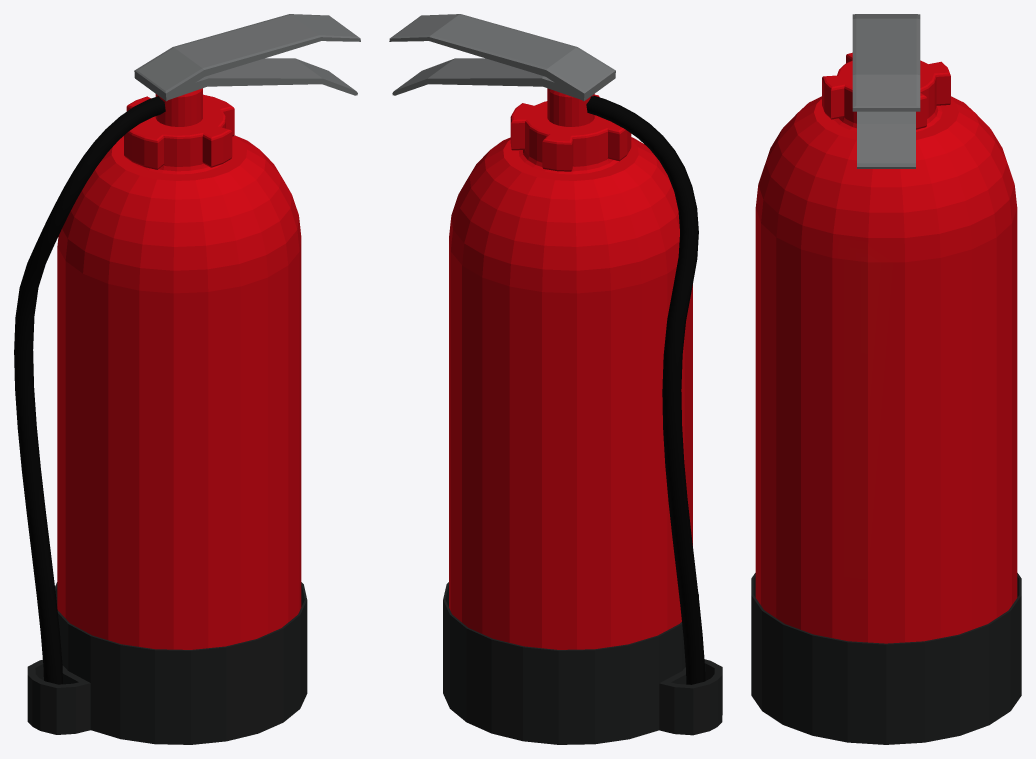
Rendered from Extintor.fbx.
The picture shows the model from 3 angles, left to right: view 1: azimuth 30°, elevation 25°; view 2: azimuth 150°, elevation 25°; view 3: azimuth 270°, elevation 25°; orthographic projection. The views are drawn at different scales.
Visible parts, largest first — view 1: Extintor; view 2: Extintor; view 3: Extintor.
Part boxes in pixels (x1=…): Extintor: x1=14, y1=14, x2=360, y2=744; Extintor: x1=389, y1=14, x2=722, y2=744; Extintor: x1=751, y1=14, x2=1021, y2=744.
Bounding box in the file's own units: 35.58 × 69.13 × 25.
